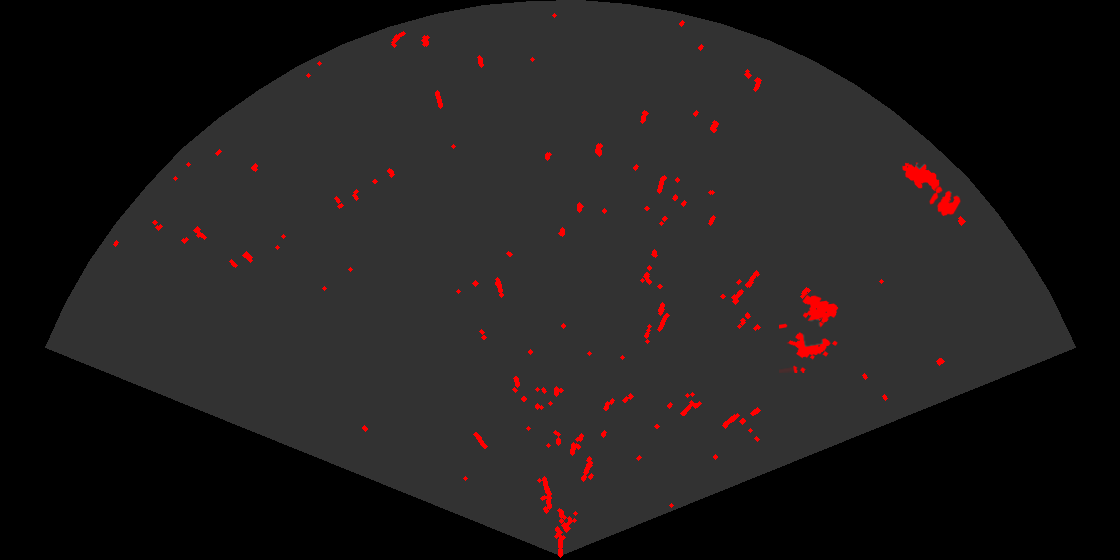AUV: (901, 161, 943, 195)
ball: (928, 185, 963, 218)
cage: (779, 293, 840, 373)
